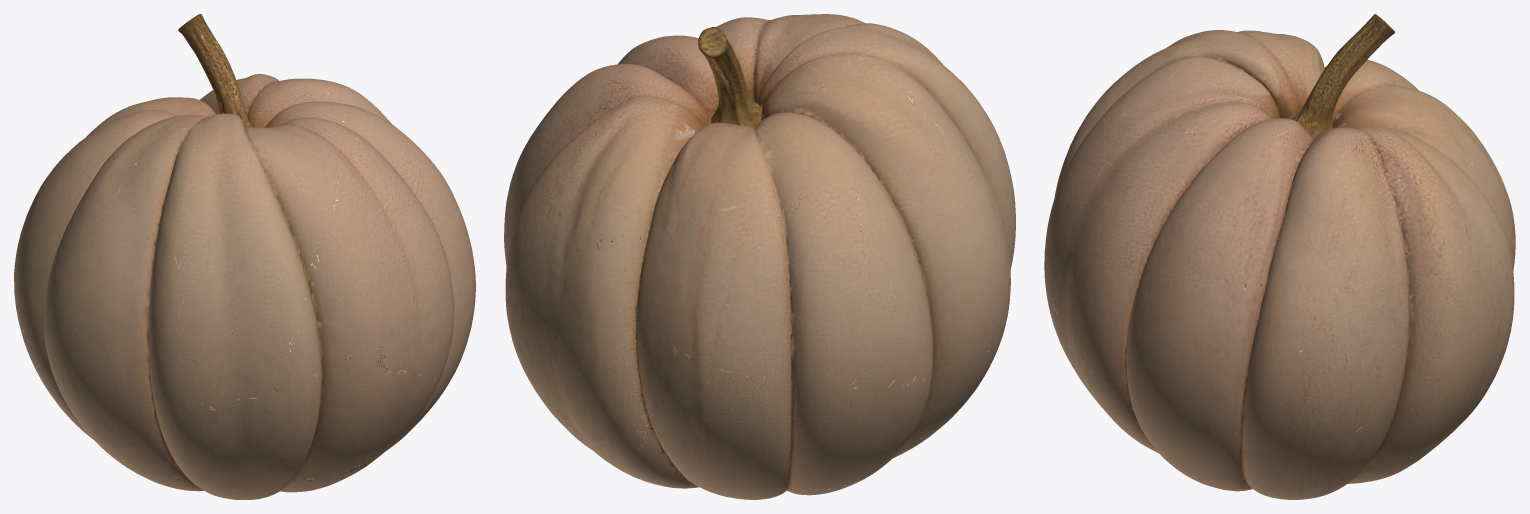
Rendered from fruit.glb.
3 renders of one model, left to right at view 1: azimuth 30°, elevation 25°; view 2: azimuth 150°, elevation 25°; view 3: azimuth 270°, elevation 25°, orthographic. The views are drawn at different scales.
Parts seen in each view (by area): view 1: tripo_node_14d825bd-cea9-42dd-944e-660992cbc093; view 2: tripo_node_14d825bd-cea9-42dd-944e-660992cbc093; view 3: tripo_node_14d825bd-cea9-42dd-944e-660992cbc093.
Boxes of the visible parts, left/top/right/bottom form: tripo_node_14d825bd-cea9-42dd-944e-660992cbc093: left=14, top=14, right=475, bottom=499; tripo_node_14d825bd-cea9-42dd-944e-660992cbc093: left=504, top=14, right=1015, bottom=499; tripo_node_14d825bd-cea9-42dd-944e-660992cbc093: left=1044, top=14, right=1515, bottom=499.
Size of the model in its own units: 1.01 by 0.9999 by 0.9652.
1 material, 1 textured.
